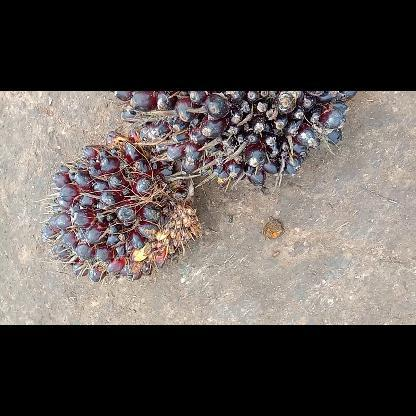TBS mentah: (41, 126, 214, 280), (109, 92, 359, 182)
